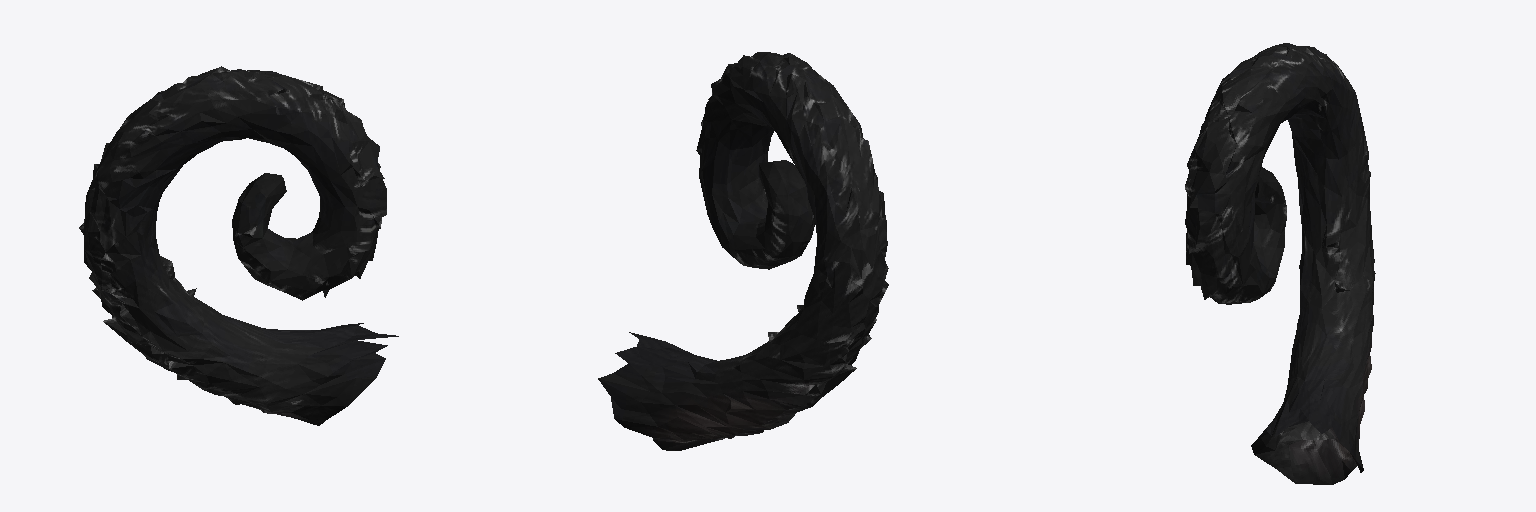
The picture shows the model from 3 angles: view 1: azimuth 30°, elevation 25°; view 2: azimuth 150°, elevation 25°; view 3: azimuth 270°, elevation 25°; orthographic projection.
Visible parts, largest first — view 1: colaMono; view 2: colaMono; view 3: colaMono.
Part boxes in pixels (bbox=[...]): colaMono: bbox=[79, 66, 398, 425]; colaMono: bbox=[598, 52, 888, 450]; colaMono: bbox=[1185, 43, 1375, 484].
Size of the model in its own units: 0.287 by 0.3721 by 0.1664.
1 materials, 1 textured.